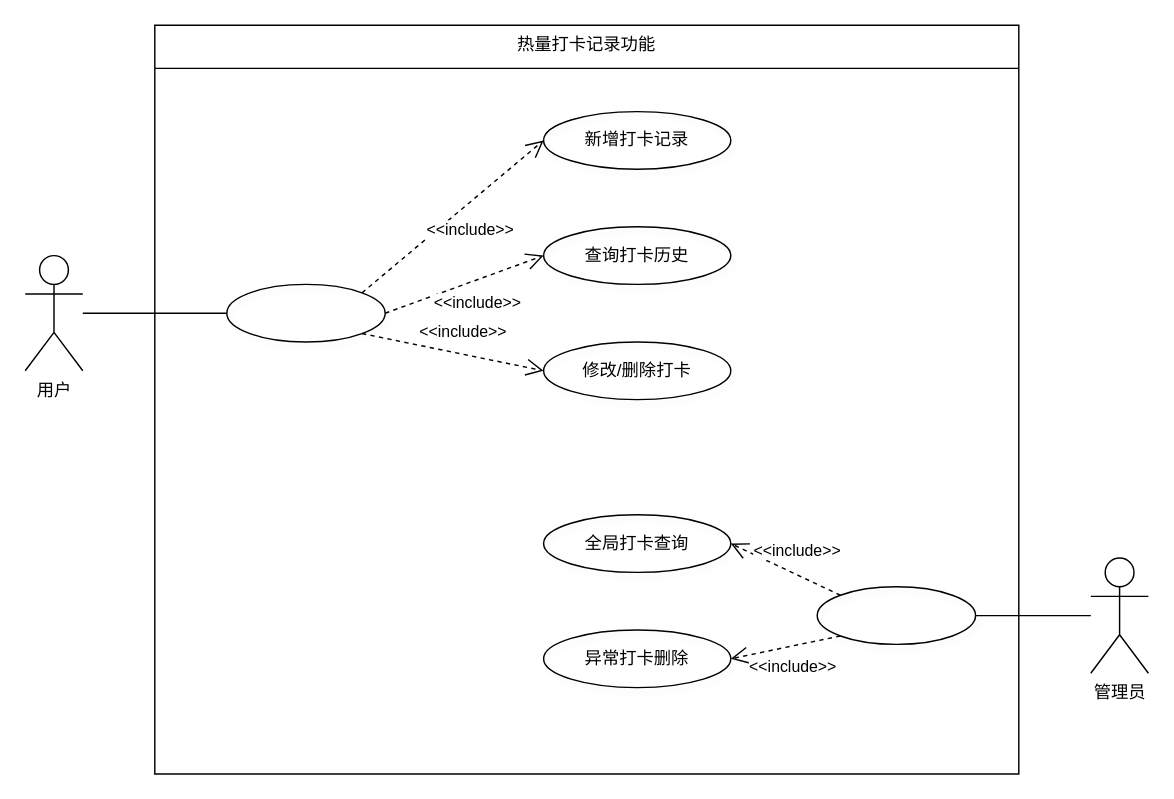
This 1174x799 diagram has some shape labels left out. Each missing label, with the centre of its shape:
"个人热量打卡" goes at pixel 307 314.
"打卡记录监管" goes at pixel 897 617.
